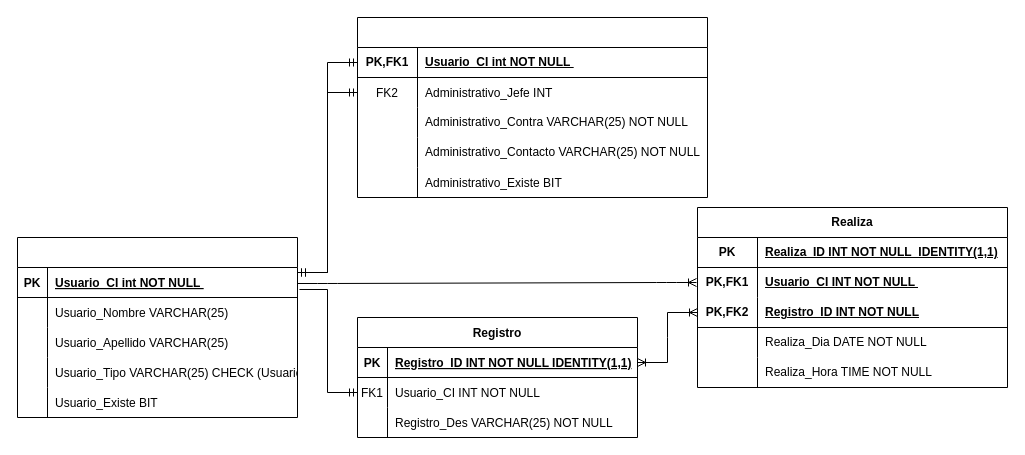
Some shapes in this 1025 by 455 pixel diagram are drawn without their labels. The shapes that lost their labels are listed below. From the top down, each one's box as (x1, y1, x2, y2) in pixels, then its label:
(356, 16, 708, 198): Administrativos
(16, 236, 298, 418): Usuarios
